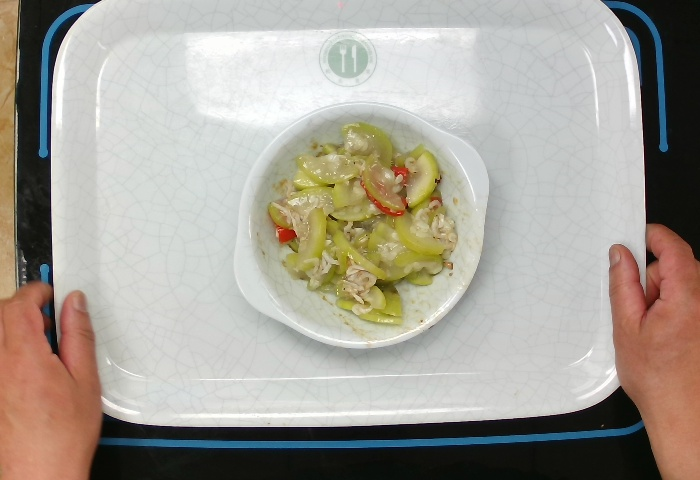JYsf-Shuang_Er_Wan: (231, 101, 491, 350)
